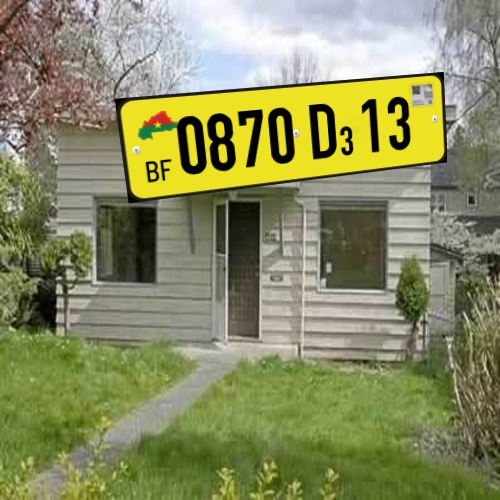plate: (102, 67, 456, 205)
